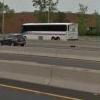Bus: (17, 19, 81, 44)
